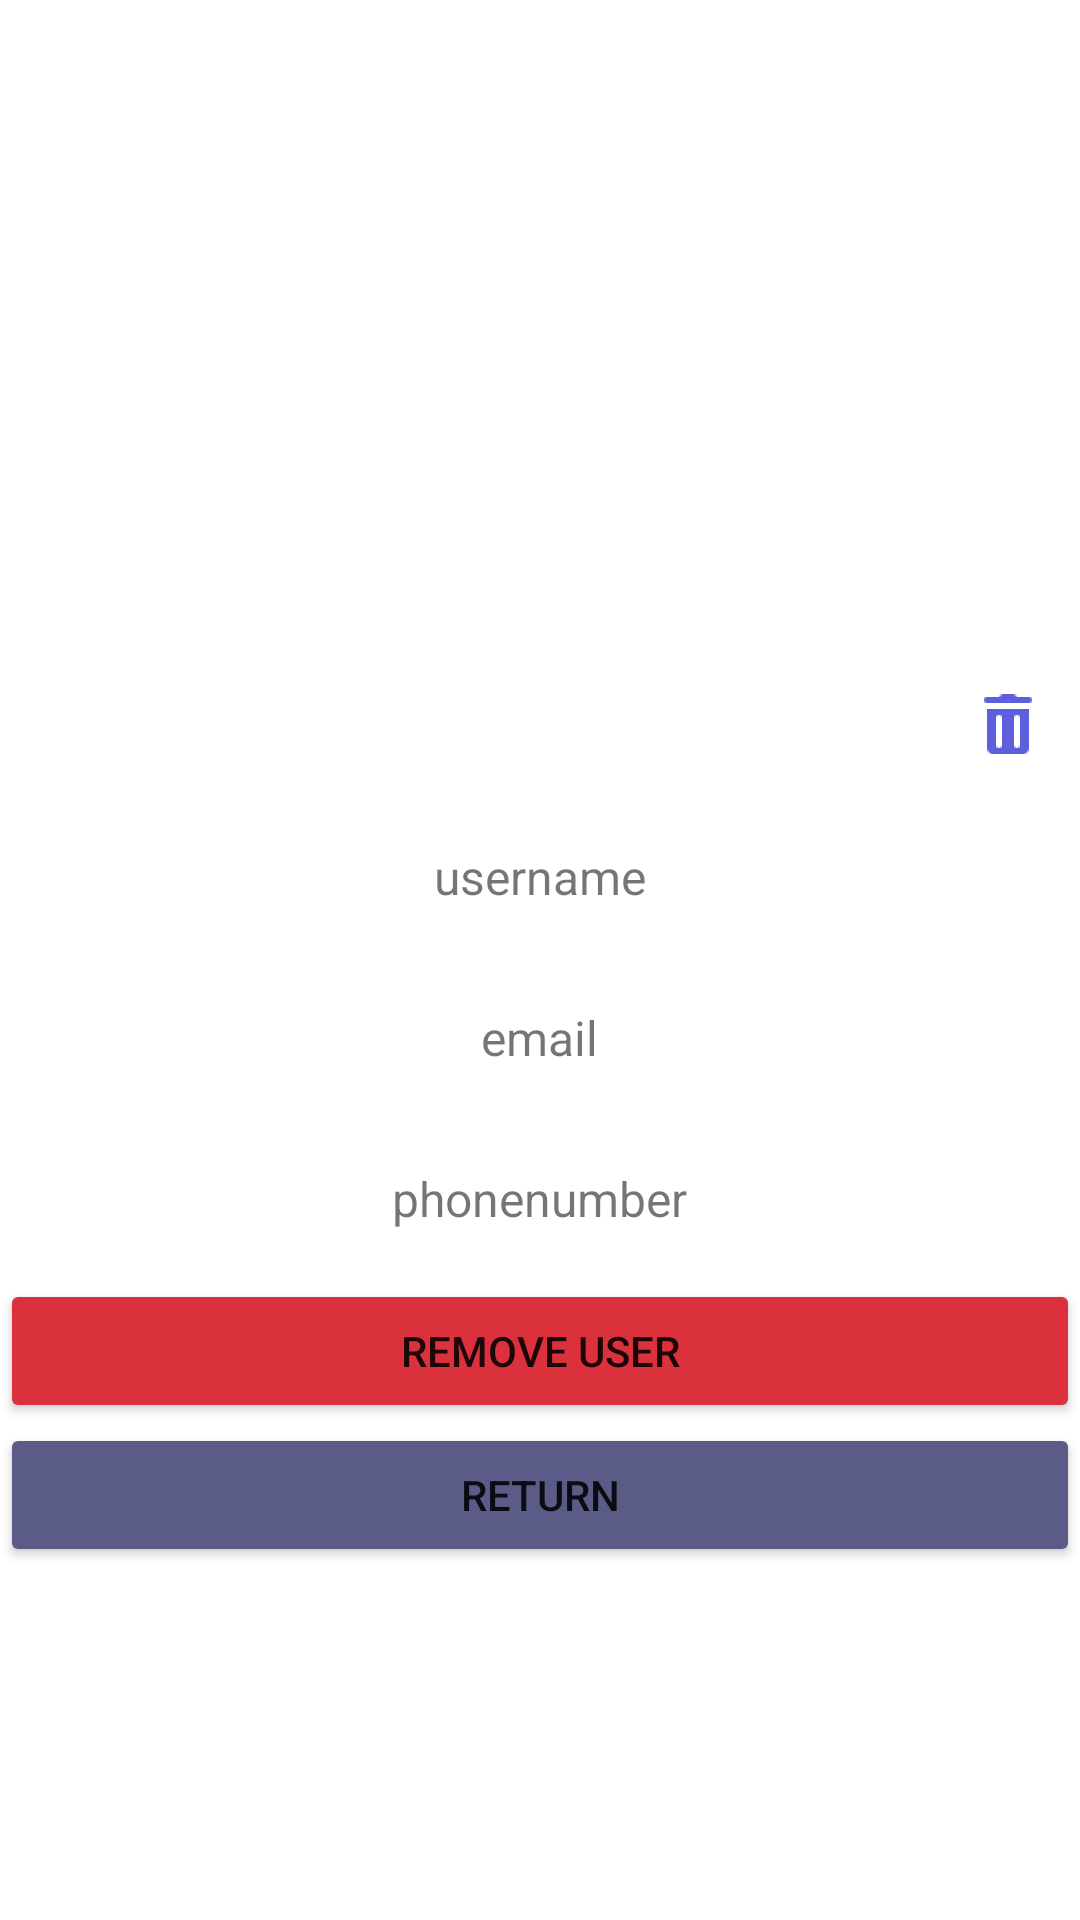

Screen size 1080 × 1920. Icon name, then its center in pixels as (x,y):
trash: (1008,724)
